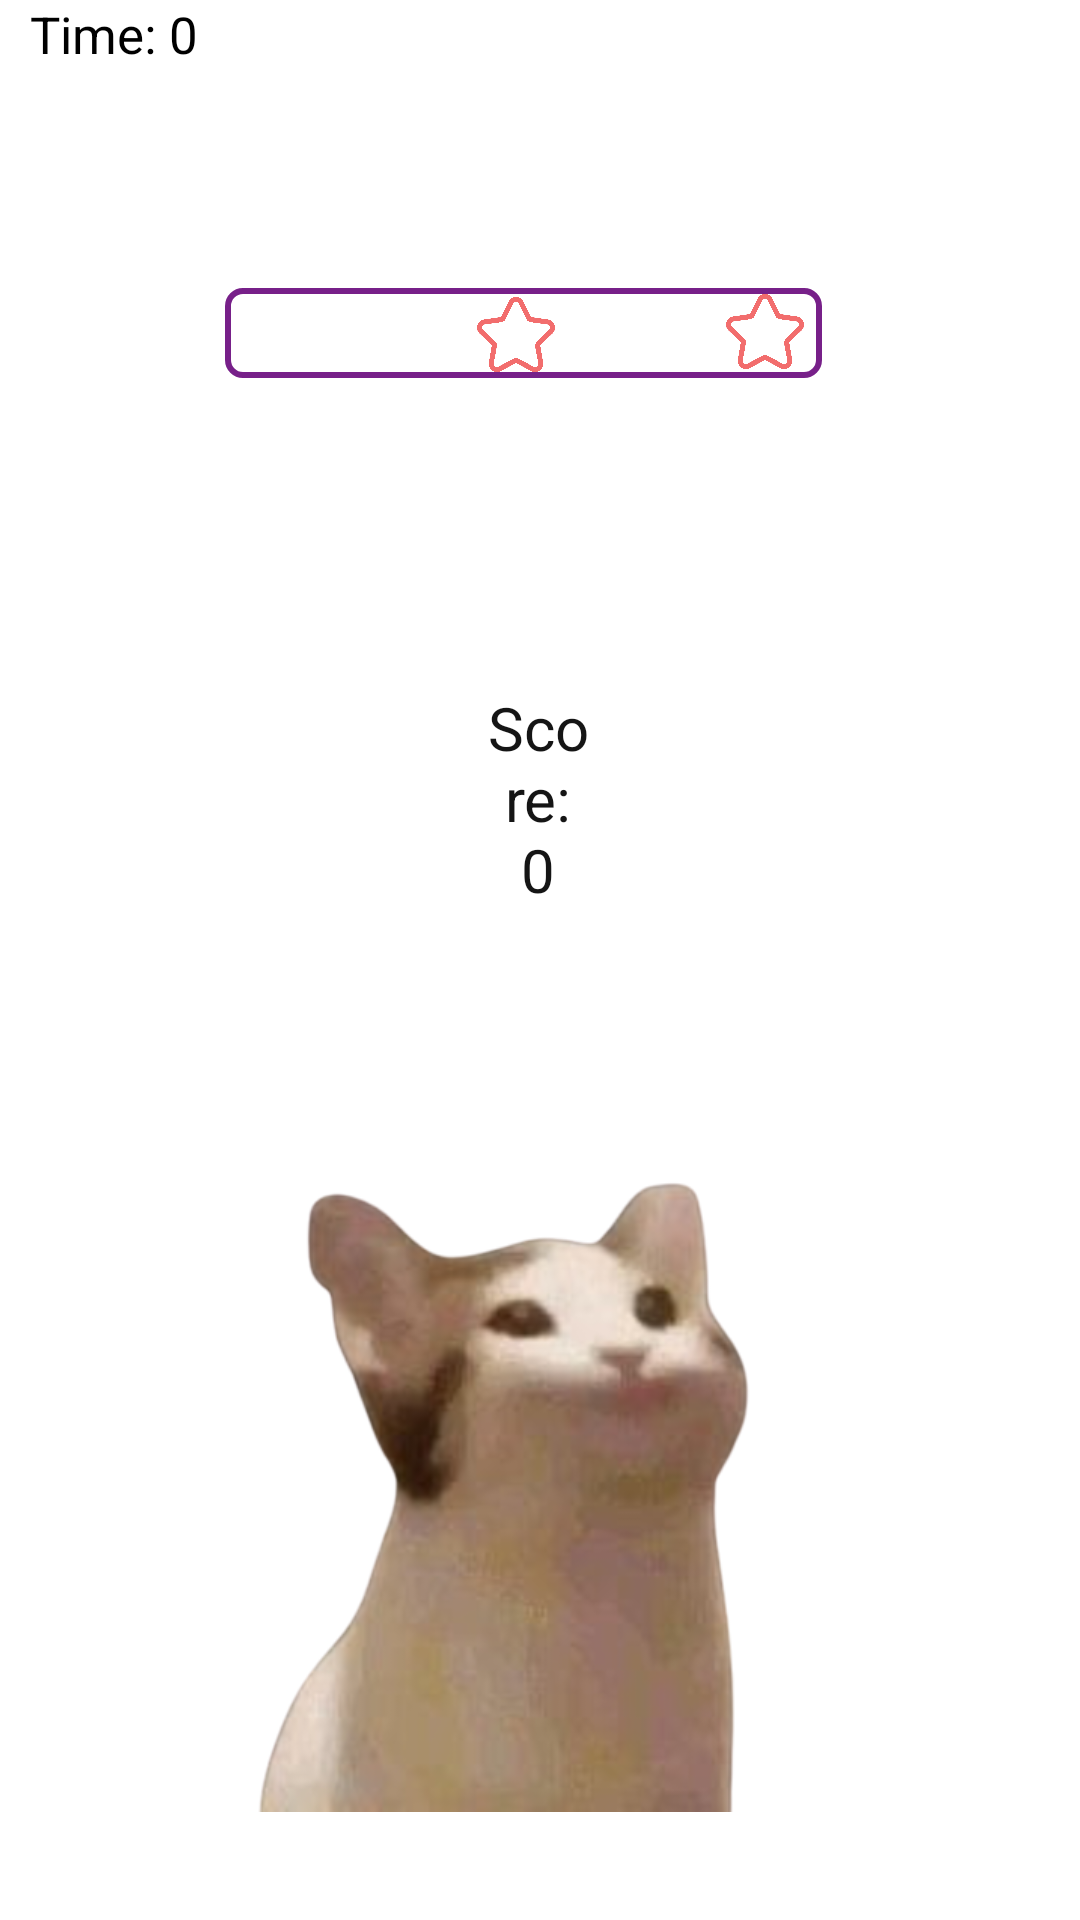

Where icons sit on this 1080×1920 app screen, as (x1, y1, x2, y2):
bintangnull: (726, 294, 807, 369), (477, 297, 555, 372)
